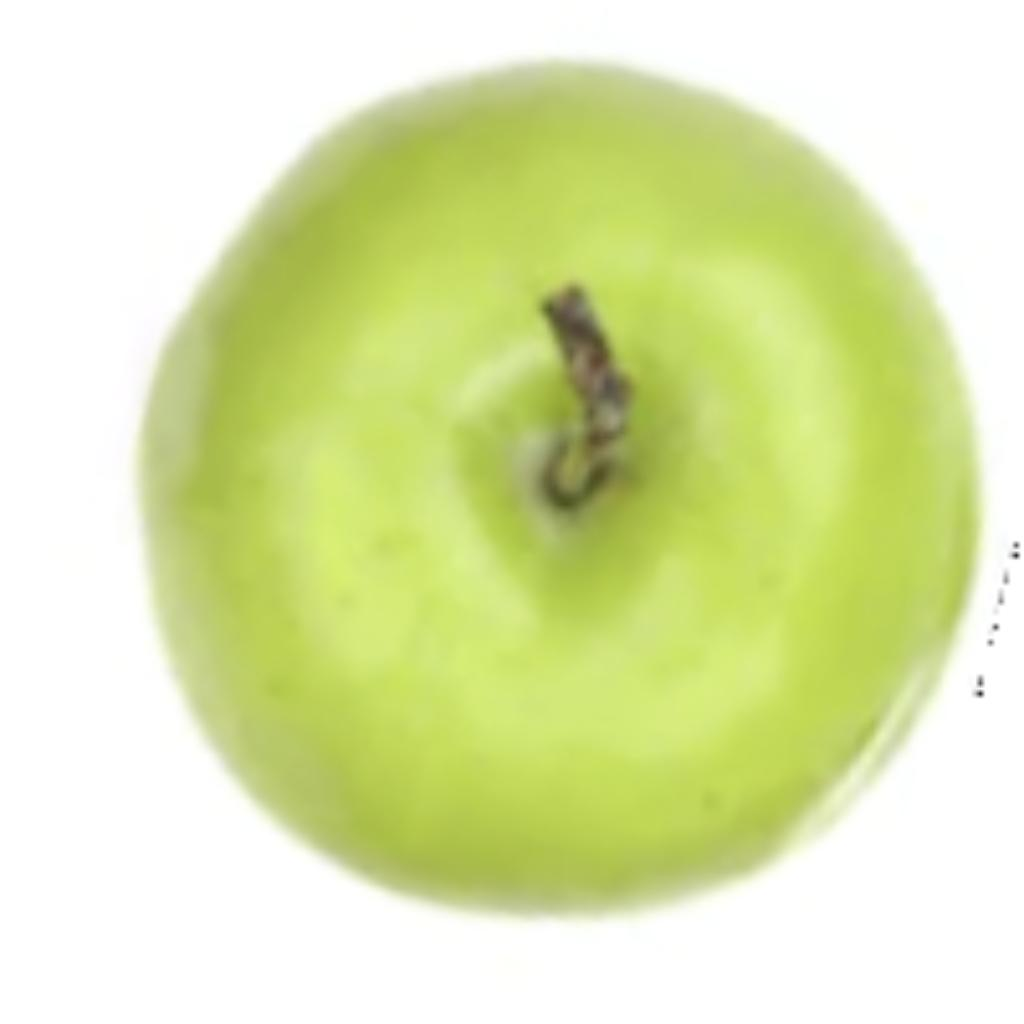apple: (113, 46, 1019, 927)
